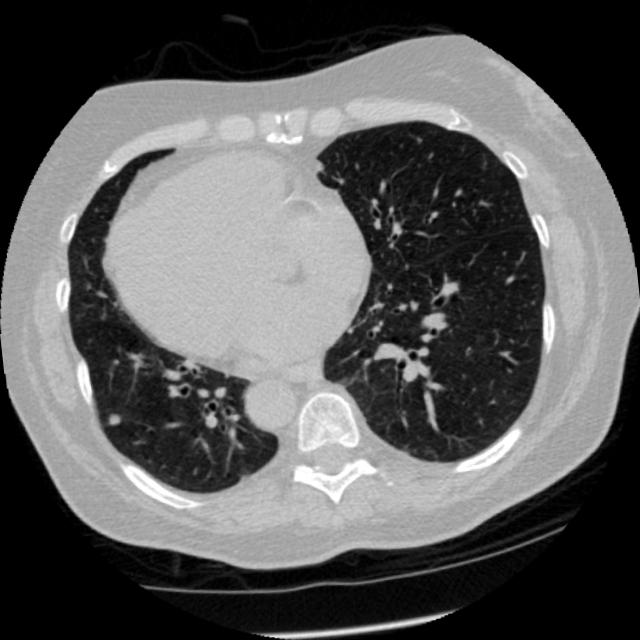nodule: (100, 402, 130, 433)
